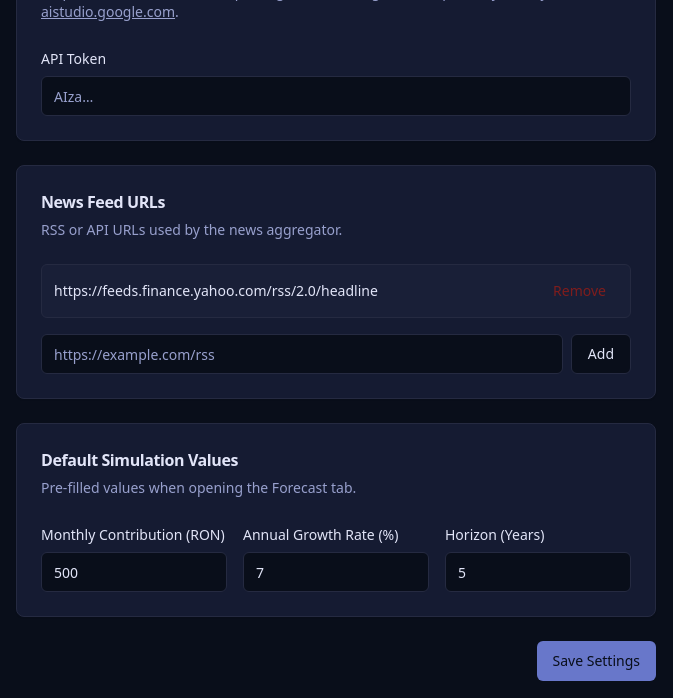
Test case: SettingsPage › shows 'Settings saved' after a successful PUT
(page scrolled)
Click the button "Save Settings" at (596, 661), box [536, 641, 656, 681]
(page scrolled)
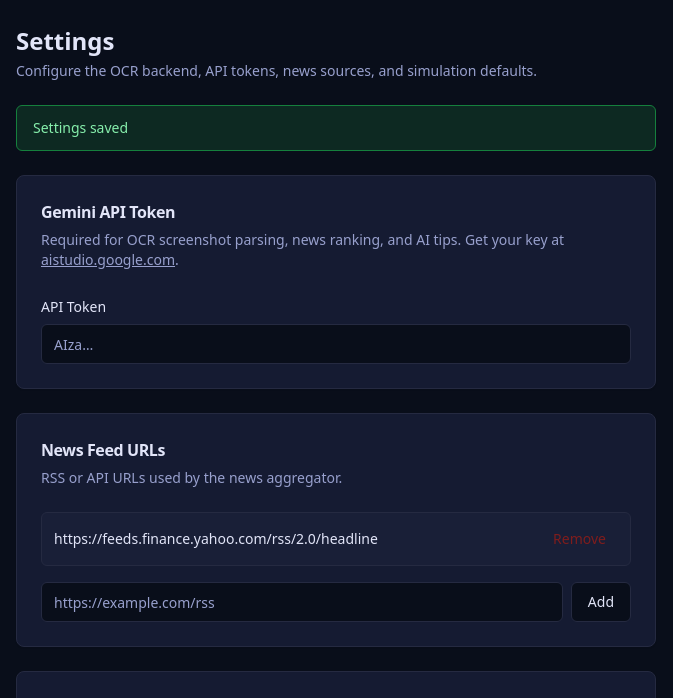
Expected: the message "Settings saved" is shown, [16, 105, 656, 151]
Expected: the message reads "Settings saved", [33, 118, 128, 137]
